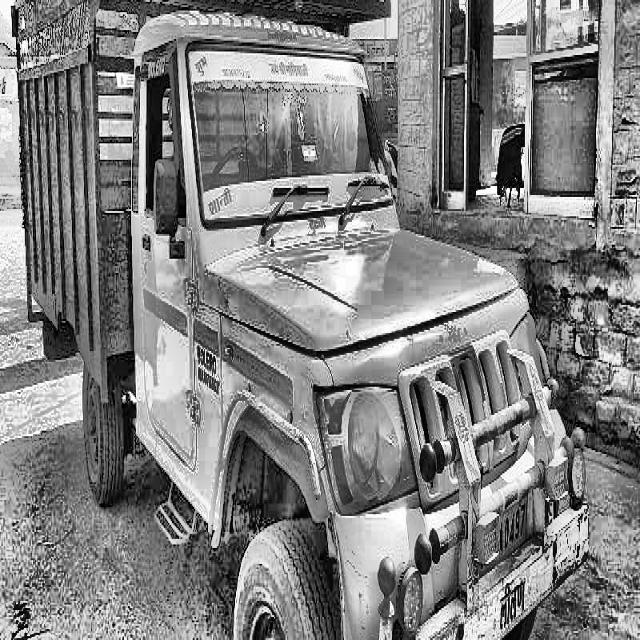light_vehicle: (13, 7, 592, 640)
